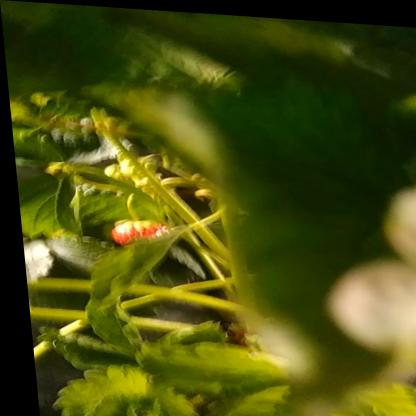ripe: (99, 221, 170, 251)
